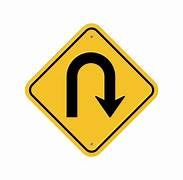back: (24, 23, 158, 156)
